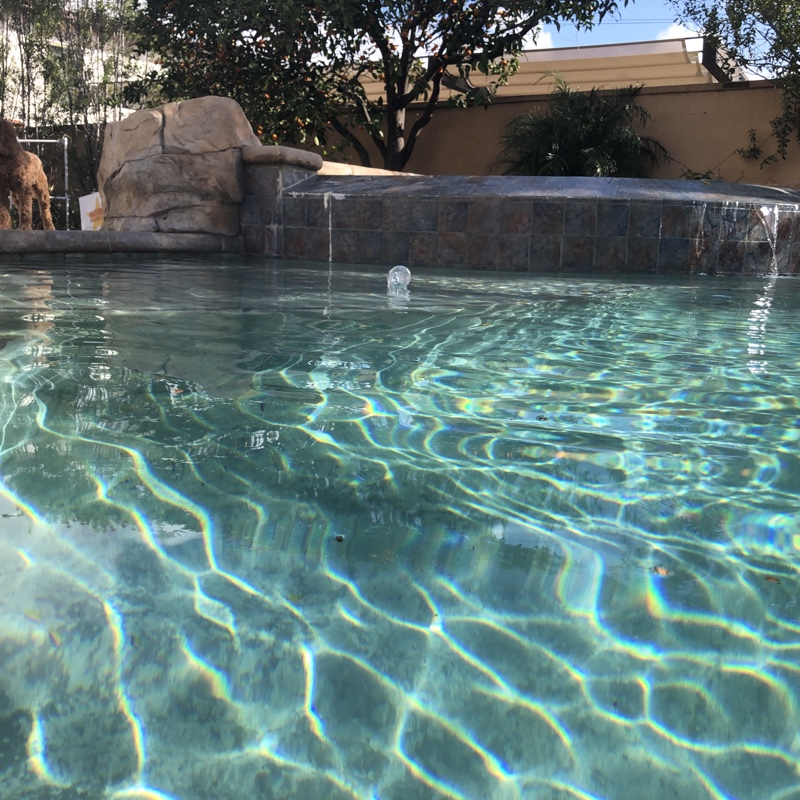Plastic Bottle: (383, 263, 412, 293)
